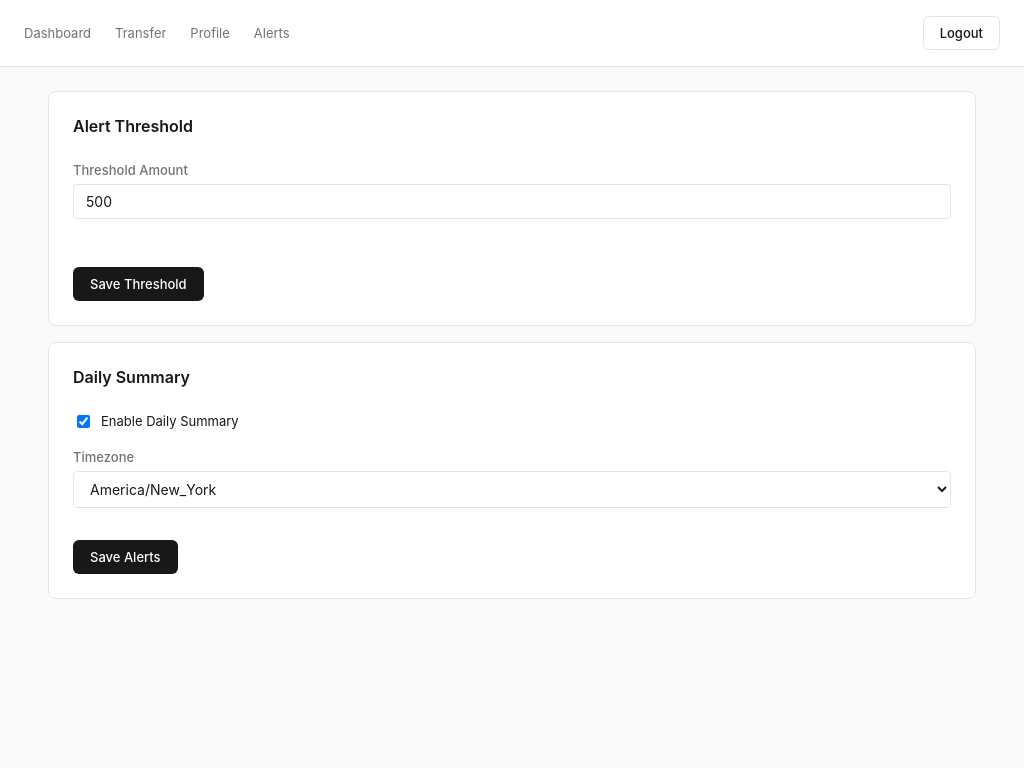
Scenario: AlertPreferencesComponent › saves daily summary settings and shows a confirmation
Select "America/Chicago" in the dropdown named "timezone". click: (512, 490)
box: 73,471 -> 951,508
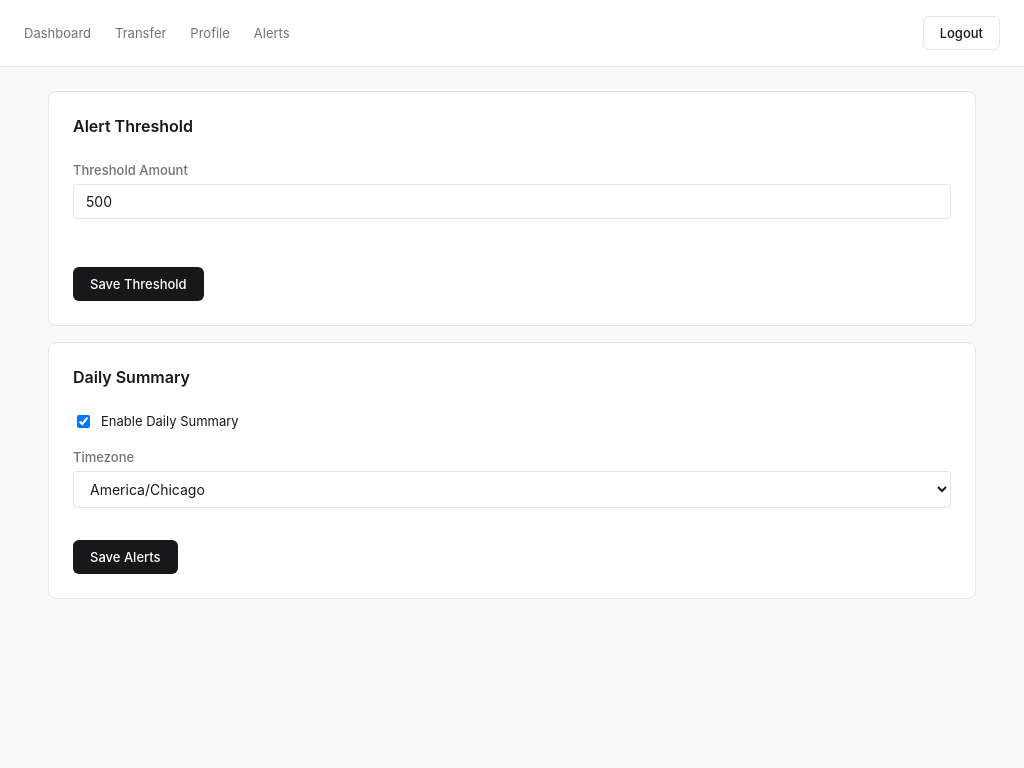
Click the button "Save Alerts". click: click(125, 557)
box: 73,540 -> 178,574
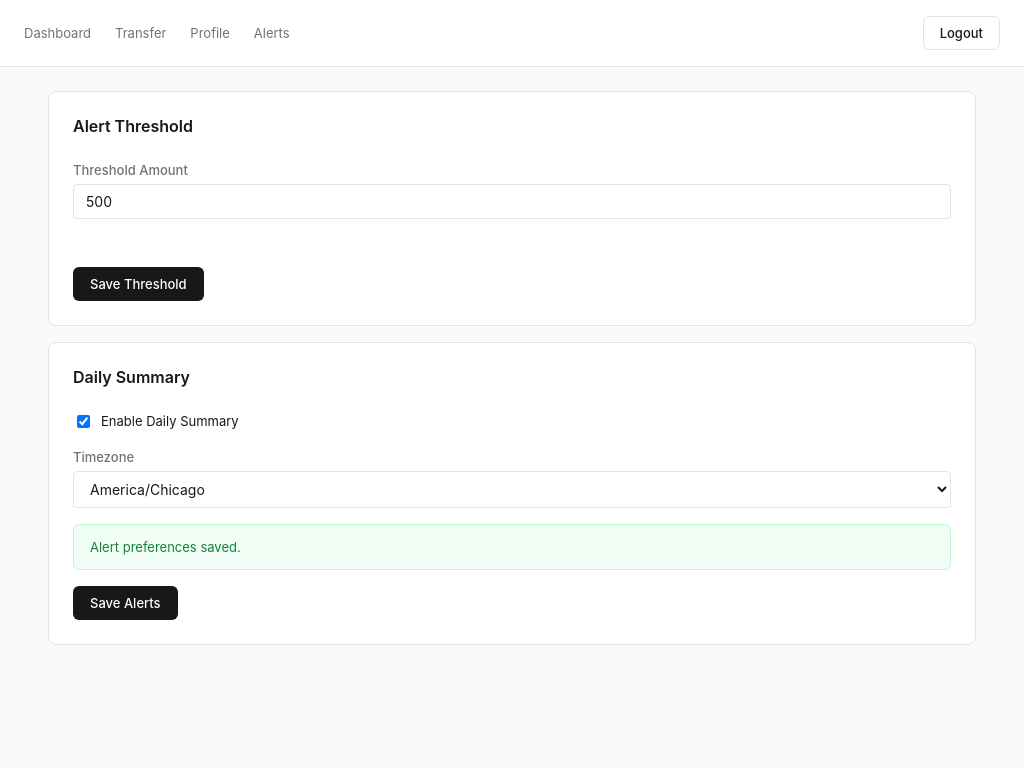
Expected: the text "saved" is shown, 90,539 -> 241,555
